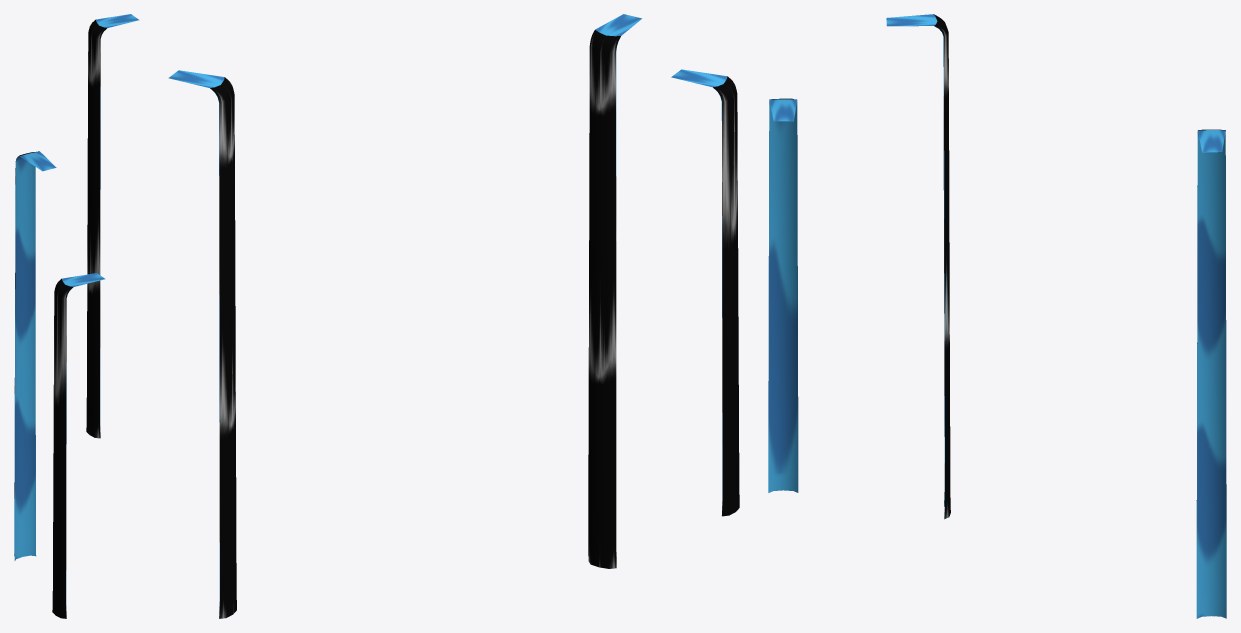
File: hecks_kitchen_tile_nunchucks_Detailed_fountains.fbx
3 renders of one model, left to right at view 1: azimuth 30°, elevation 25°; view 2: azimuth 150°, elevation 25°; view 3: azimuth 270°, elevation 25°, orthographic. The views are drawn at different scales.
Visible parts, largest first — view 1: falls4d, falls4b, falls4; view 2: falls4d, falls4; view 3: falls4b, falls4d, falls4.
Boxes of the visible parts, x1,y1,x2,y2 form: falls4d: (14,20,106,618); falls4b: (14,29,106,613); falls4: (14,14,138,618); falls4d: (210,30,739,618); falls4: (168,14,733,618); falls4b: (768,18,1226,618); falls4d: (772,14,1221,518); falls4: (768,14,1225,516).
Bounding box in the file's own units: 22.94 × 34.76 × 29.29.
Materials: 4 (4 with a texture image).
